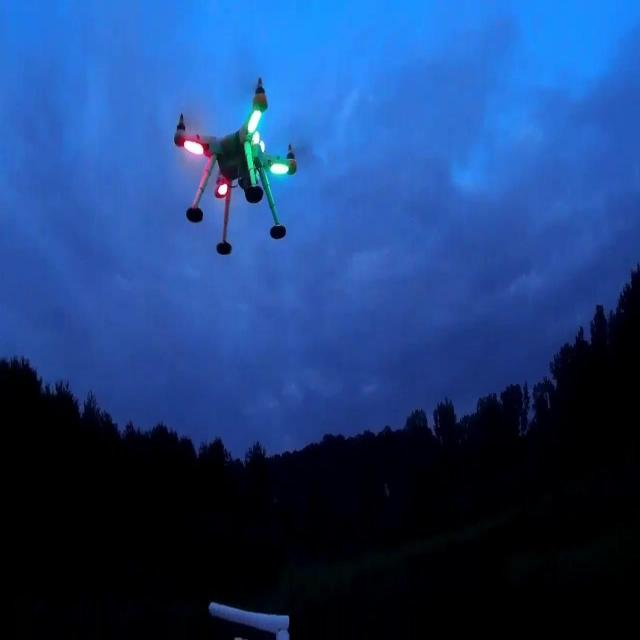UAV: (174, 78, 296, 255)
